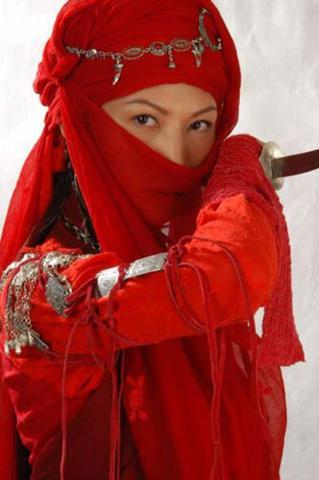WRONG: (107, 100, 216, 209)
